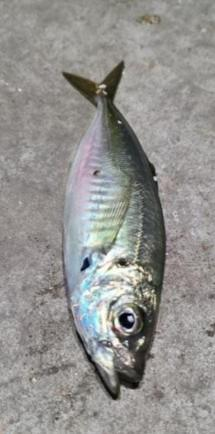fish: (61, 53, 166, 402)
